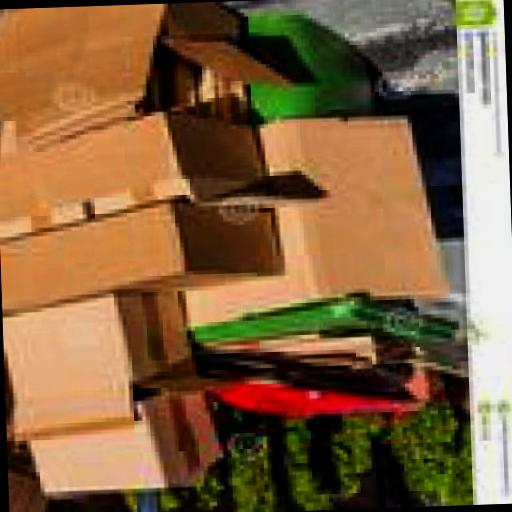biodegradable: (381, 396, 468, 508), (273, 418, 333, 512), (318, 420, 381, 506), (222, 415, 277, 512), (168, 473, 222, 512), (128, 494, 189, 512)
cardboard: (172, 130, 446, 330), (2, 286, 220, 504), (0, 110, 307, 241), (0, 2, 292, 129), (0, 203, 277, 321), (21, 394, 220, 500), (214, 334, 408, 386), (7, 451, 41, 512)
